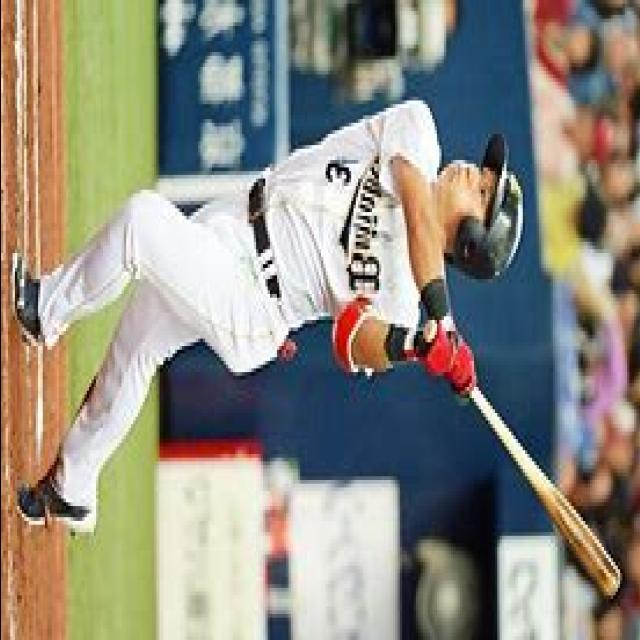bat: (418, 312, 624, 607)
